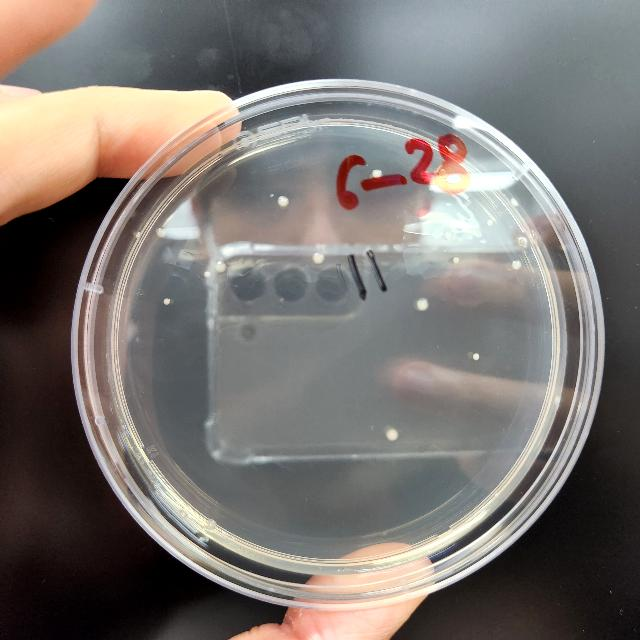colony: (205, 518, 217, 532), (416, 299, 428, 311), (314, 252, 324, 264), (216, 262, 227, 272), (278, 196, 288, 206), (372, 168, 382, 178), (388, 430, 398, 440), (512, 260, 522, 270), (157, 228, 166, 238), (511, 198, 519, 208), (178, 510, 188, 518), (163, 298, 170, 306), (486, 220, 494, 227), (204, 271, 212, 277), (454, 258, 460, 264), (136, 232, 140, 240), (474, 353, 478, 361)
